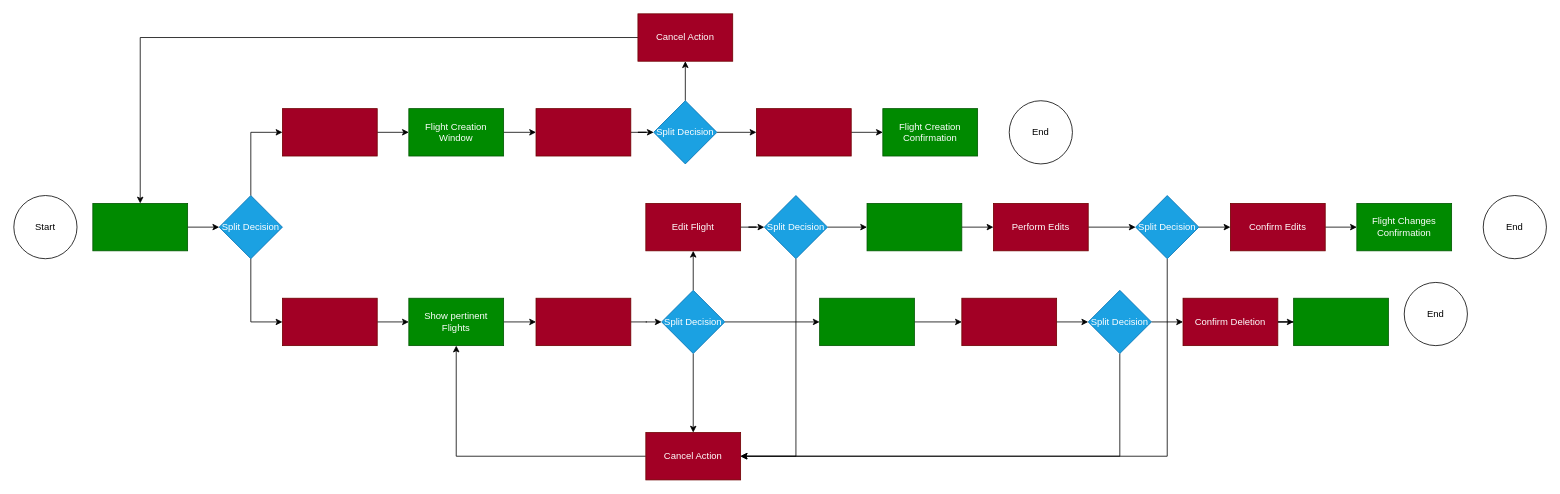
Some shapes in this 1560 by 494 pixel diagram are drawn without their labels. Each missing label, with the box of its shape:
Add Flight: (282, 108, 377, 156)
Confirm Creation of new Flight: (756, 108, 851, 156)
Delete Flight: (961, 297, 1057, 346)
Deletion Window: (819, 297, 914, 346)
Edit Flights Window: (92, 203, 188, 251)
Editing Window: (866, 203, 962, 251)
Flight Deletion Confirmation: (1293, 297, 1388, 346)
Insert Flight Data: (535, 108, 631, 156)
Search Flight: (282, 297, 377, 346)
Select Flight: (535, 297, 631, 346)
